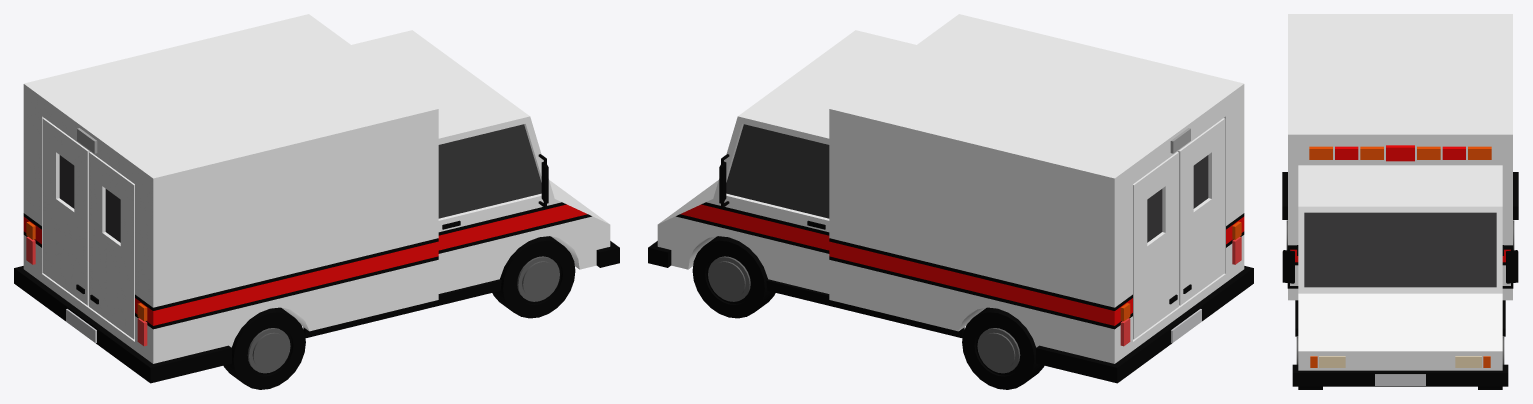
File: car2.glb
3 views of the same model, side by side, from view 1: azimuth 30°, elevation 25°; view 2: azimuth 150°, elevation 25°; view 3: azimuth 270°, elevation 25° (orthographic). The views are drawn at different scales.
Parts seen in each view (by area): view 1: SM_Vehicle_Ambulance_0; view 2: SM_Vehicle_Ambulance_0; view 3: SM_Vehicle_Ambulance_0.
Boxes of the visible parts, left/top/right/bottom form: SM_Vehicle_Ambulance_0: left=14, top=14, right=619, bottom=389; SM_Vehicle_Ambulance_0: left=648, top=14, right=1253, bottom=389; SM_Vehicle_Ambulance_0: left=1282, top=14, right=1518, bottom=389.
Bounding box in the file's own units: 4.63 × 2.21 × 2.28.
Materials: 1 (1 with a texture image).
